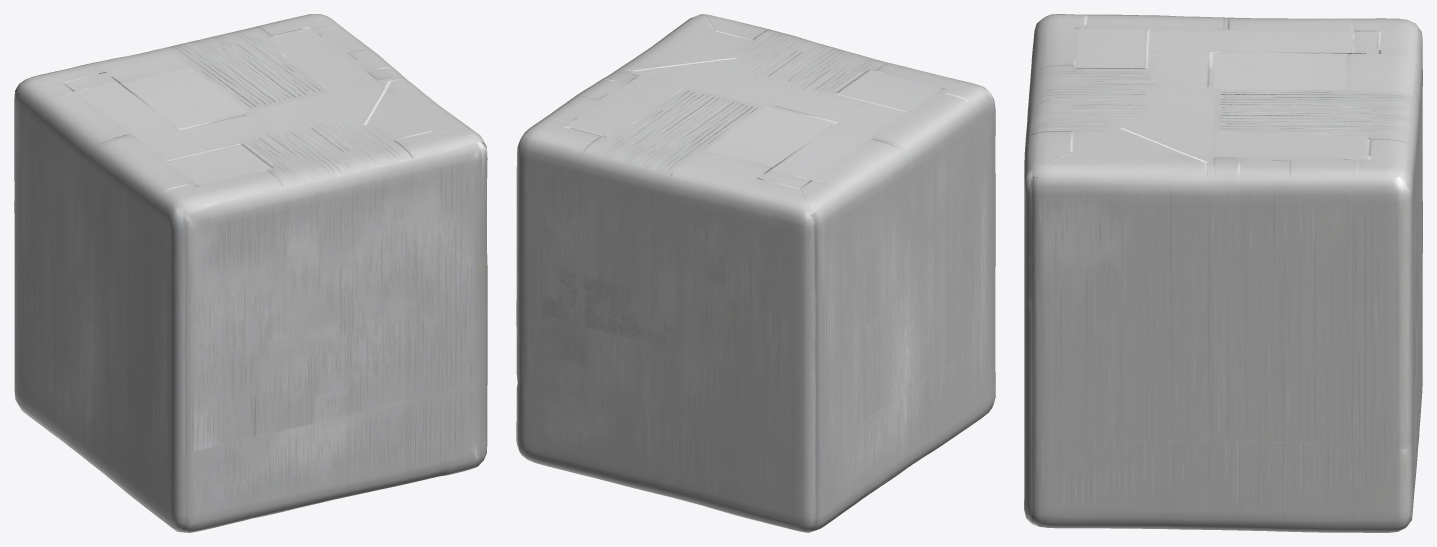
The model's file is tee_minecraft_material_extra_2.glb.
The picture shows the model from 3 angles, left to right: view 1: azimuth 30°, elevation 25°; view 2: azimuth 150°, elevation 25°; view 3: azimuth 270°, elevation 25°; orthographic projection. The views are drawn at different scales.
Size of the model in its own units: 1.99 by 2 by 2.
Materials: 1 (1 with a texture image).
